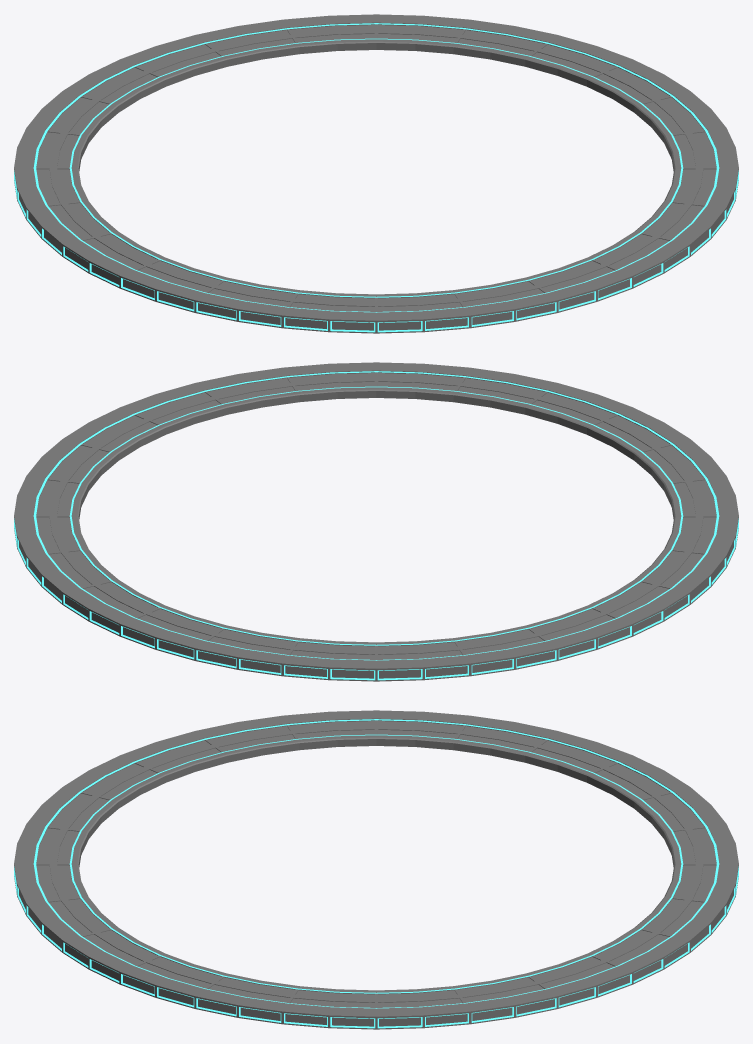
The model's file is Ring_01.fbx.
The picture shows the model from 3 angles, top to bottom: view 1: azimuth 30°, elevation 25°; view 2: azimuth 150°, elevation 25°; view 3: azimuth 270°, elevation 25°; orthographic projection.
Parts seen in each view (by area): view 1: Ring_Outer_006; view 2: Ring_Outer_006; view 3: Ring_Outer_006.
Boxes of the visible parts, x1=… form: Ring_Outer_006: x1=14, y1=14, x2=738, y2=333; Ring_Outer_006: x1=14, y1=362, x2=738, y2=681; Ring_Outer_006: x1=14, y1=710, x2=738, y2=1029.
Size of the model in its own units: 56 by 1.09 by 56.
